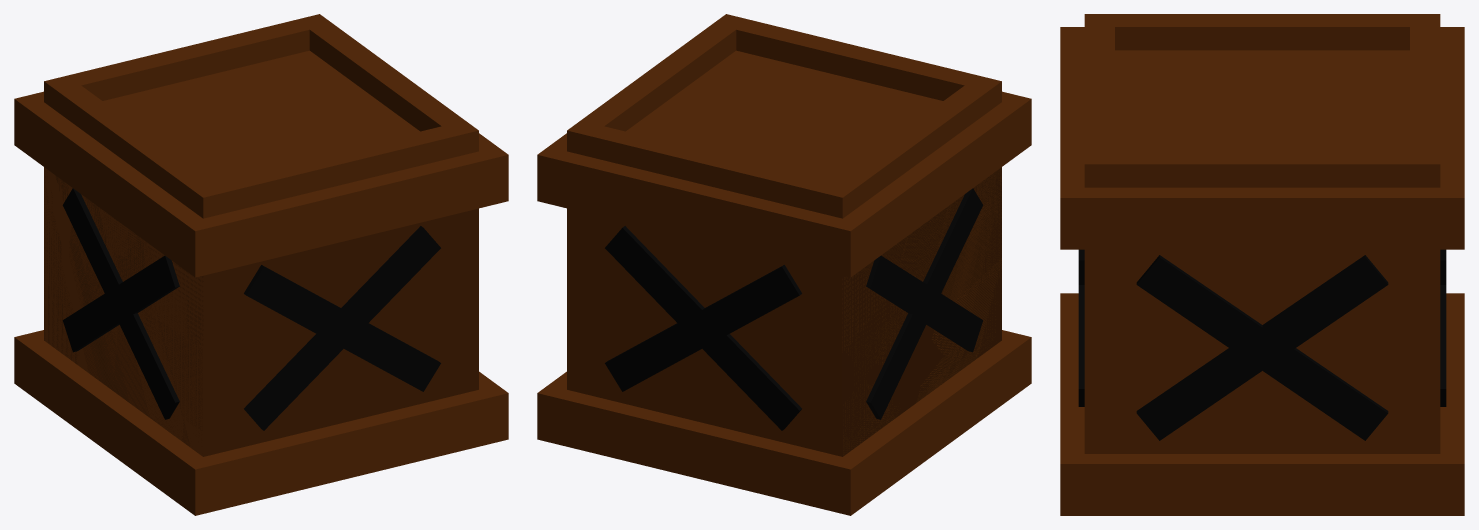
Rendered from mycube.glb.
3 views of the same model, side by side, from view 1: azimuth 30°, elevation 25°; view 2: azimuth 150°, elevation 25°; view 3: azimuth 270°, elevation 25° (orthographic). The views are drawn at different scales.
Parts seen in each view (by area): view 1: Cube; view 2: Cube; view 3: Cube.
Part boxes in pixels (x1=…): Cube: x1=14, y1=14, x2=508, y2=515; Cube: x1=537, y1=14, x2=1031, y2=515; Cube: x1=1060, y1=14, x2=1464, y2=515.
Bounding box in the file's own units: 2.27 × 2.12 × 2.27.
